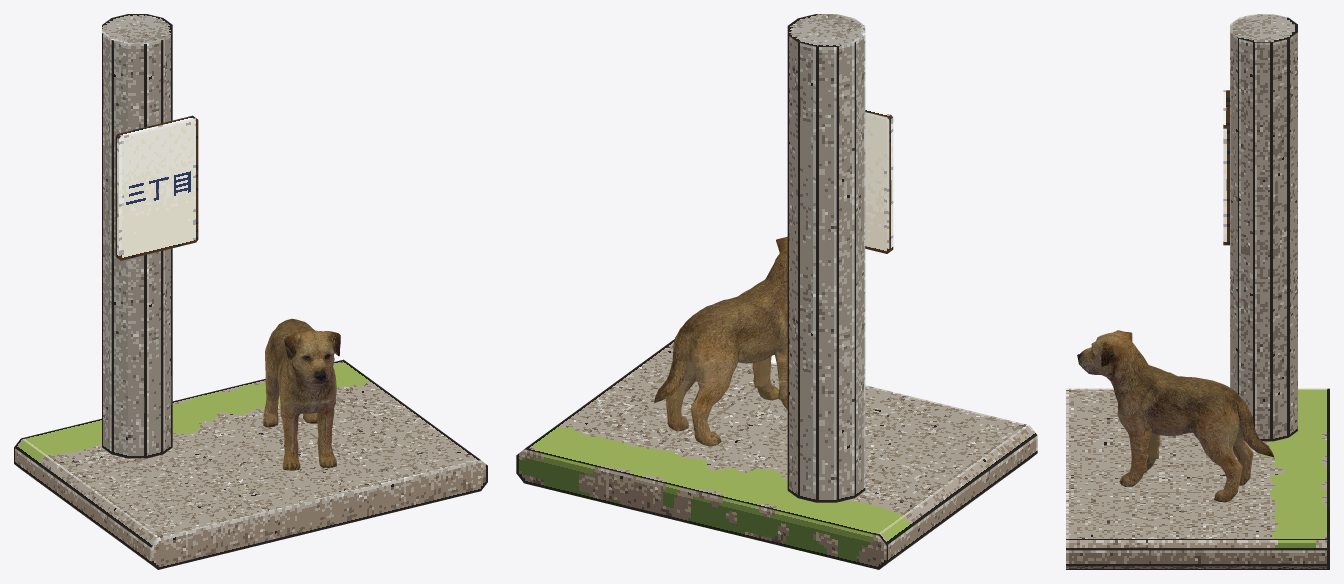
Rendered from terrier.glb.
3 views of the same model, side by side, from view 1: azimuth 30°, elevation 25°; view 2: azimuth 150°, elevation 25°; view 3: azimuth 270°, elevation 25° (orthographic). The views are drawn at different scales.
Parts seen in each view (by area): view 1: base, pole, sign, model_dog; view 2: base, pole, model_dog, sign; view 3: base, pole, model_dog, sign.
Part boxes in pixels (x1=…): base: x1=14, y1=359, x2=487, y2=569; pole: x1=102, y1=14, x2=172, y2=458; sign: x1=115, y1=115, x2=198, y2=260; model_dog: x1=263, y1=318, x2=340, y2=470; base: x1=516, y1=339, x2=1037, y2=569; pole: x1=787, y1=14, x2=865, y2=502; model_dog: x1=654, y1=236, x2=787, y2=446; sign: x1=865, y1=108, x2=893, y2=253; base: x1=1066, y1=388, x2=1329, y2=569; pole: x1=1230, y1=14, x2=1297, y2=441; model_dog: x1=1077, y1=330, x2=1273, y2=502; sign: x1=1223, y1=90, x2=1229, y2=245.
Size of the model in its own units: 34 by 43 by 24.
2 materials, 2 textured.
